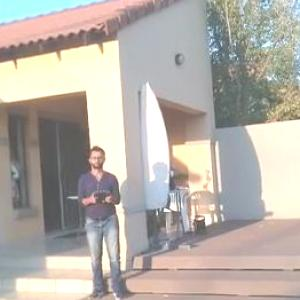follow: (76, 140, 130, 299)
